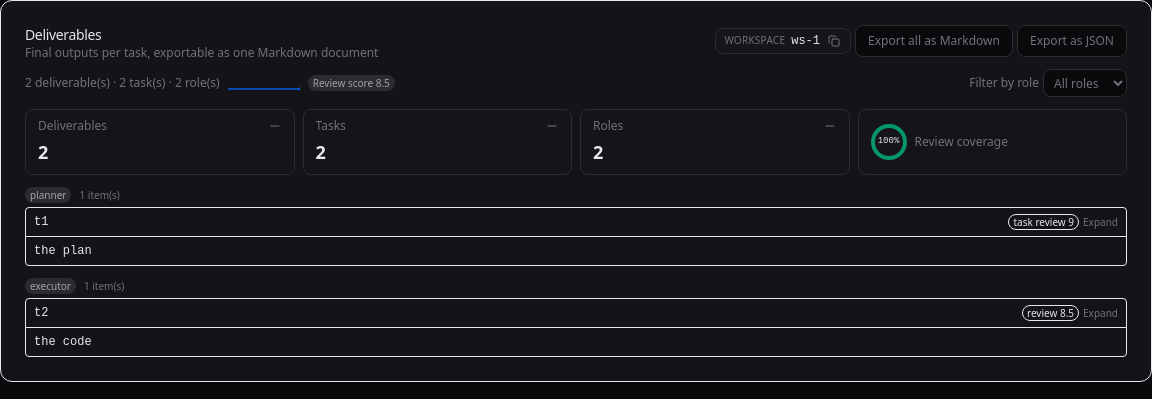
deliverables deepening — render smoke › mounts the ai-elements stats strip: StatCards, coverage donut, filter delta
The width and height of the screenshot is (1152, 399).
Expected: the element with test id "deliverables-stat-cards" shows "Deliverables", x1=38 y1=117 x2=107 y2=134
Expected: the element with test id "deliverables-stat-cards" shows "Tasks", x1=316 y1=117 x2=346 y2=134
Select "planner" in the dropdown labelled "Filter by role" at (1085, 83), box x1=1043 y1=69 x2=1127 y2=97
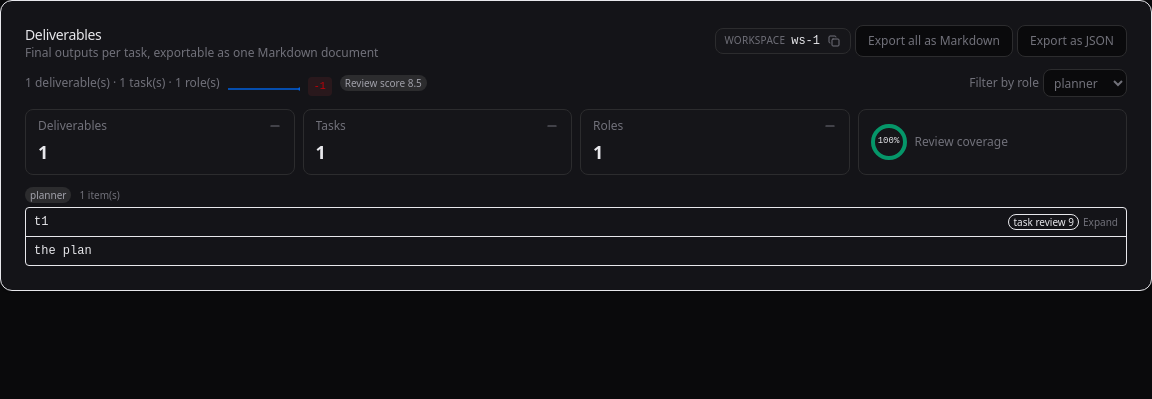
Expected: the text "-1" is shown, x1=308 y1=76 x2=332 y2=96
Now the element titled "1 row(s) hidden by the role filter" is shown, box x1=308 y1=70 x2=332 y2=96
